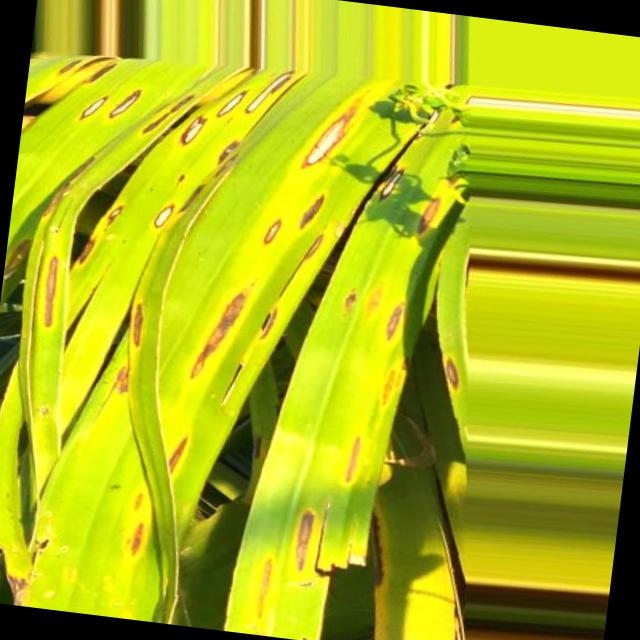Banana_Yellow_Sigatoka: (251, 122, 502, 640), (5, 39, 286, 400)
